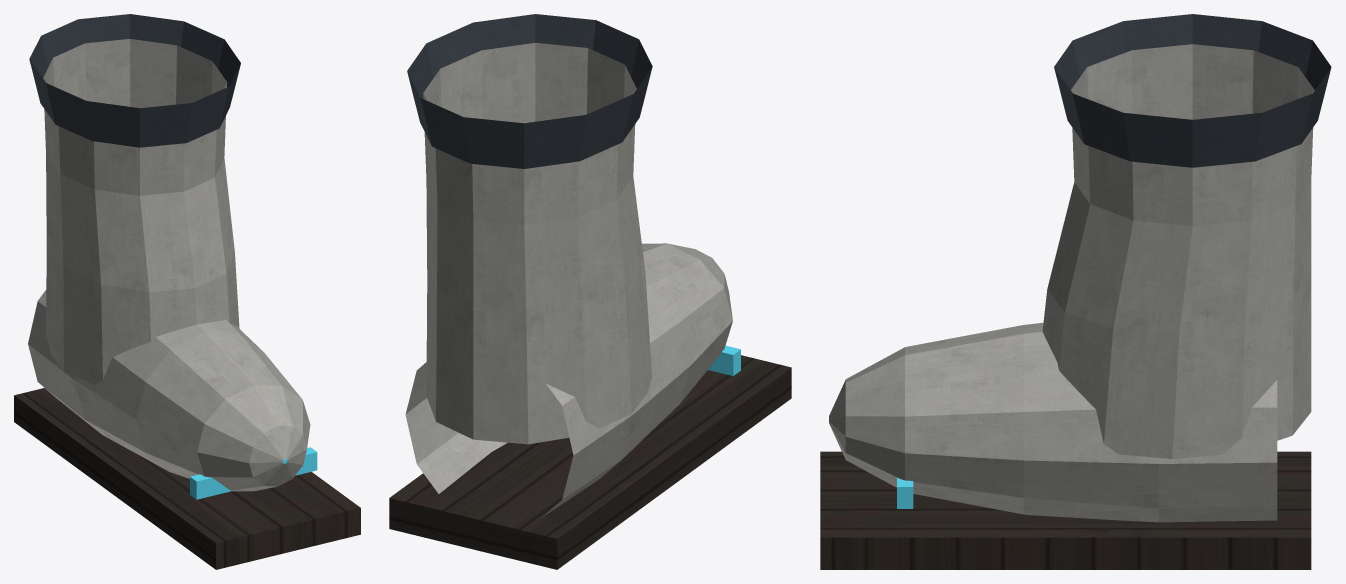
The model's file is eq_future_2_boot.glb.
3 renders of one model, left to right at view 1: azimuth 30°, elevation 25°; view 2: azimuth 150°, elevation 25°; view 3: azimuth 270°, elevation 25°, orthographic. The views are drawn at different scales.
Parts seen in each view (by area): view 1: eq_future_2_boot; view 2: eq_future_2_boot; view 3: eq_future_2_boot.
Part boxes in pixels (<box>): eq_future_2_boot: <box>14,14,360,569</box>; eq_future_2_boot: <box>389,14,791,569</box>; eq_future_2_boot: <box>820,14,1331,569</box>.
Size of the model in its own units: 0.1539 by 0.312 by 0.3141.
4 materials, 4 textured.
